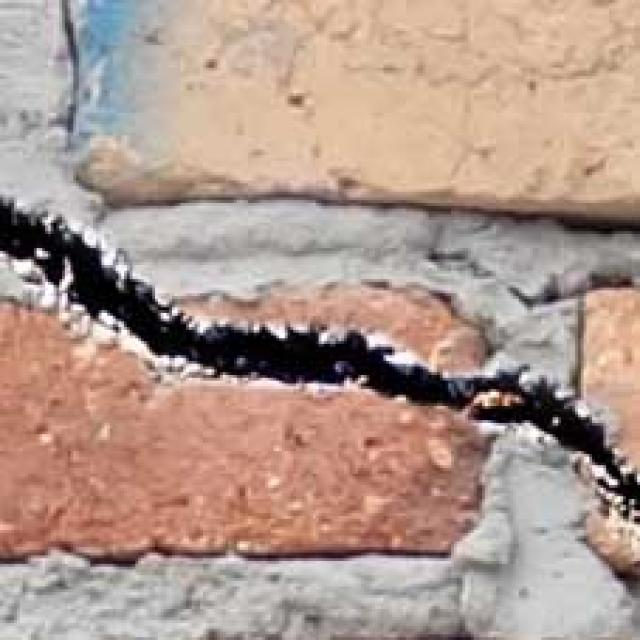Crack: (0, 174, 640, 586)
